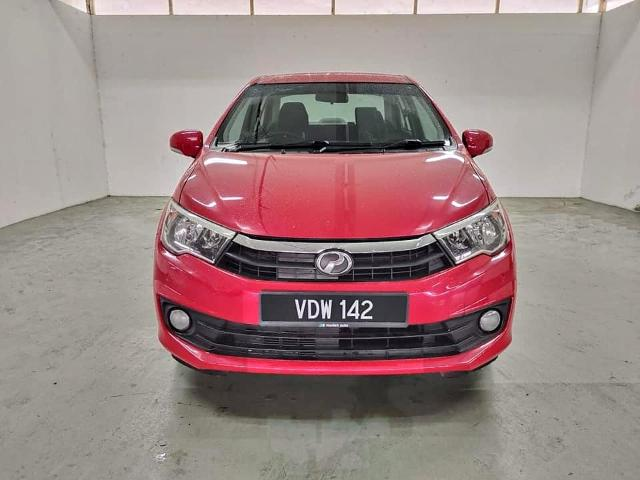License_Plate: (266, 294, 402, 328)
car: (154, 74, 519, 382)
